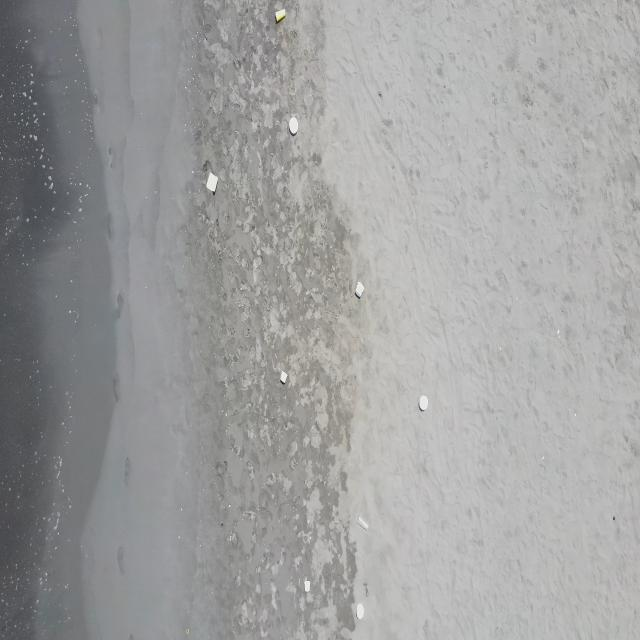take-away-containers: (207, 172, 218, 194), (289, 116, 298, 136), (355, 280, 365, 298), (418, 394, 429, 410), (356, 602, 364, 621), (280, 369, 288, 384), (304, 579, 311, 593)
takeaway-cup: (356, 513, 369, 531), (275, 8, 286, 23)
